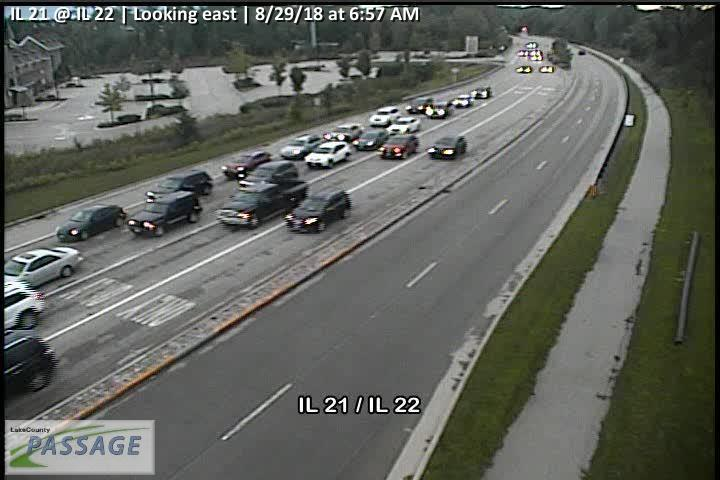SUV: (1, 327, 58, 391), (128, 189, 204, 236), (284, 187, 352, 233), (144, 169, 214, 202), (1, 281, 47, 329), (238, 160, 300, 191), (305, 141, 352, 169), (280, 133, 323, 159), (369, 106, 404, 127), (426, 100, 454, 118), (406, 96, 435, 113), (471, 86, 491, 99)
Sedan: (5, 246, 85, 287), (55, 202, 128, 241), (221, 150, 272, 177), (426, 135, 467, 160), (352, 128, 390, 150), (323, 122, 363, 141), (387, 116, 422, 135), (453, 94, 474, 108)
Truck: (216, 177, 308, 230)
